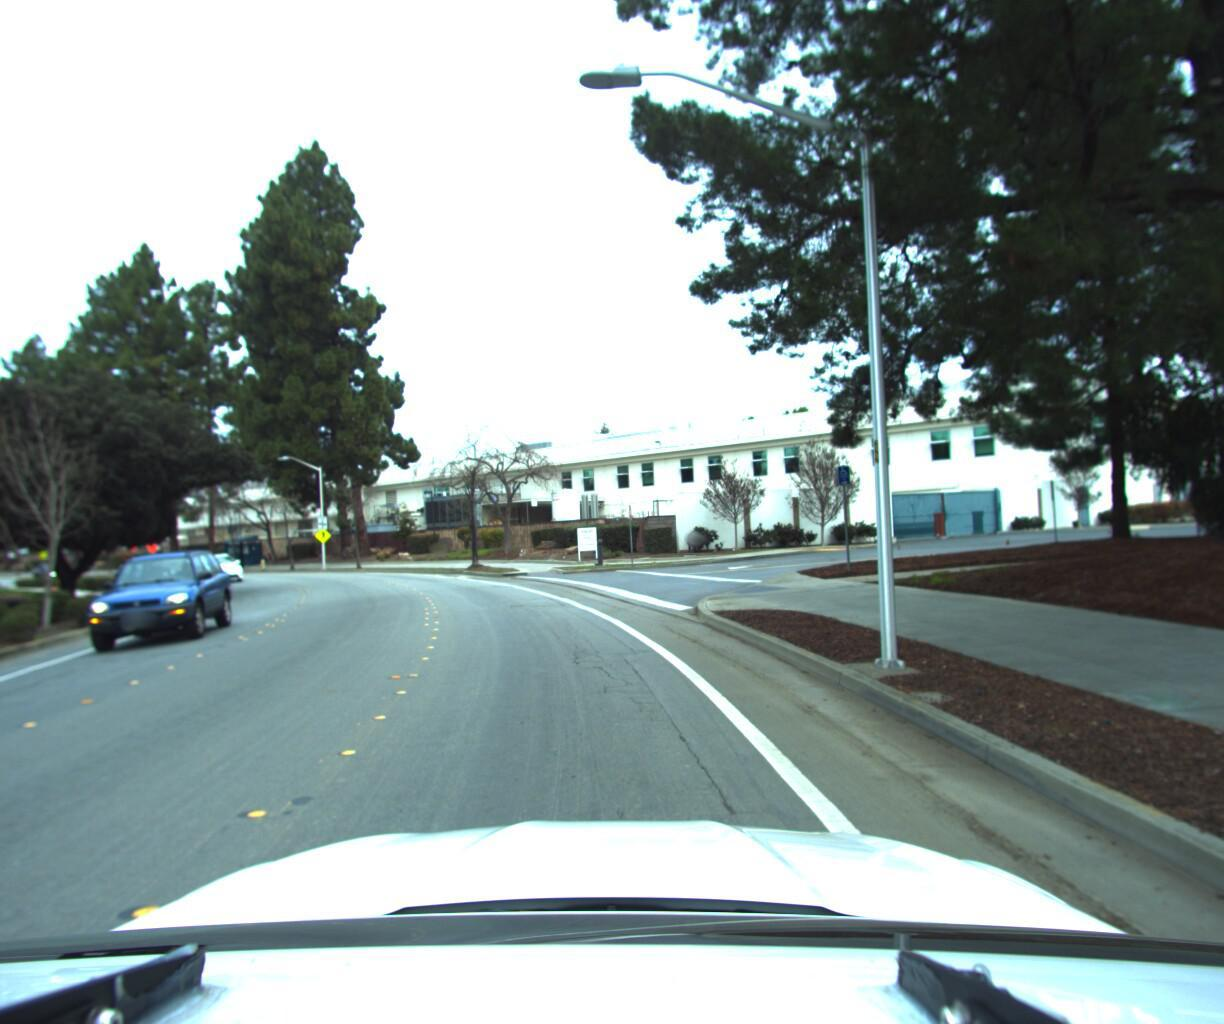car: (59, 540, 238, 658), (191, 550, 247, 585)
